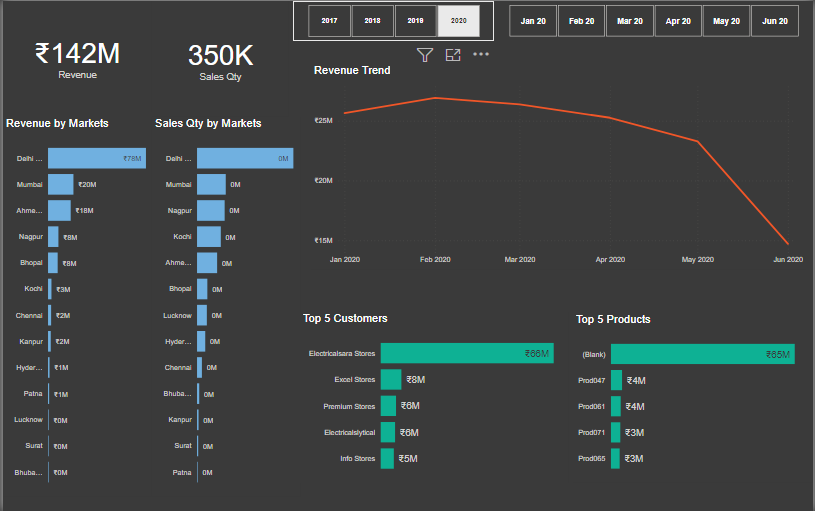

This screenshot's page, from the dashboard's own definition file:
{"tool":"powerbi","page":{"name":"Key Insights","canvas":[1350,850],"ordinal":0},"visuals":[{"type":"card","fields":{"Values":["BaseMeasures (2).Revenue"]},"box":[0,0,247.9,184.6],"z":0},{"type":"card","fields":{"Values":["BaseMeasures (2).Sales Qty"]},"box":[247.9,0,227.9,193.1],"z":1000},{"type":"barChart","title":"Revenue by Markets","fields":{"Y":["BaseMeasures (2).Revenue"],"Category":["sales markets.markets_name"]},"box":[0,193.1,247.9,631.9],"z":2000},{"type":"barChart","title":"Sales Qty by Markets","fields":{"Y":["BaseMeasures (2).Sales Qty"],"Category":["sales markets.markets_name"]},"box":[247.9,193.1,247.9,631.9],"z":3000},{"type":"slicer","fields":{"Values":["sales date.year"]},"box":[483.3,0,335,66.7],"z":4000},{"type":"slicer","fields":{"Values":["sales date.cy_date"]},"box":[818.6,0,531.7,66.5],"z":5000},{"type":"barChart","title":"Top 5 Customers","fields":{"Y":["BaseMeasures (2).Revenue"],"Category":["sales customers.custmer_name"]},"box":[495,518.3,446.7,285],"z":6000},{"type":"barChart","title":"Top 5 Products","fields":{"Y":["BaseMeasures (2).Revenue"],"Category":["sales products.product_code"]},"box":[950.7,519.2,399.5,282.8],"z":7000},{"type":"lineChart","title":"Revenue Trend","fields":{"Y":["BaseMeasures (2).Revenue"],"Category":["sales date.cy_date"]},"box":[513.3,105,825,341.7],"z":8000}]}

Visuals, with their boxes in screenshot pixels (x1, y1, x2, y2), scaled from the page's 1350x850 canvas onto the 815x511 screenshot:
card - BaseMeasures (2).Revenue: [left=0, top=0, right=150, bottom=111]
card - BaseMeasures (2).Sales Qty: [left=150, top=0, right=287, bottom=116]
"Revenue by Markets" barChart: [left=0, top=116, right=150, bottom=496]
"Sales Qty by Markets" barChart: [left=150, top=116, right=299, bottom=496]
slicer - sales date.year: [left=292, top=0, right=494, bottom=40]
slicer - sales date.cy_date: [left=494, top=0, right=814, bottom=40]
"Top 5 Customers" barChart: [left=299, top=312, right=569, bottom=483]
"Top 5 Products" barChart: [left=574, top=312, right=814, bottom=482]
"Revenue Trend" lineChart: [left=310, top=63, right=808, bottom=269]
